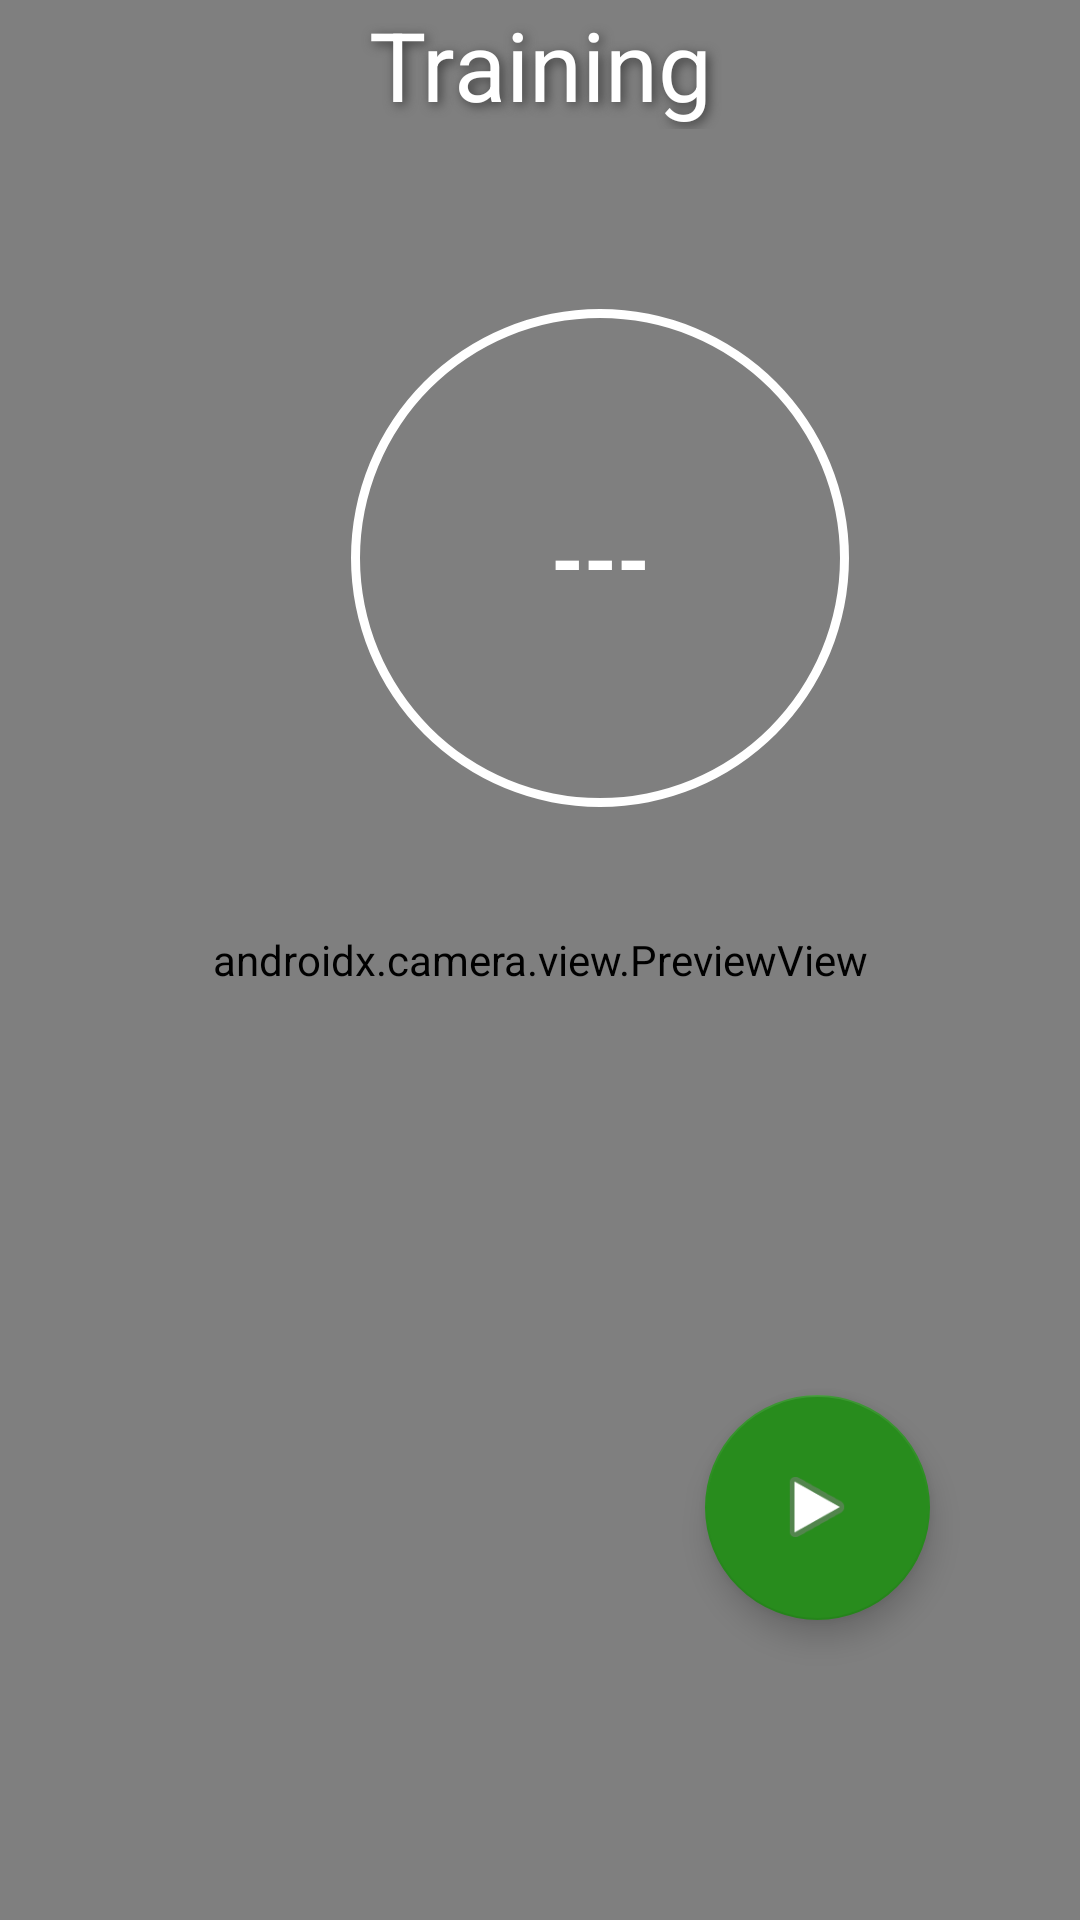

Icons on this 1080×1920 Android screen, each with the point to tap as (x=x, y=y):
play: (x=817, y=1507)
